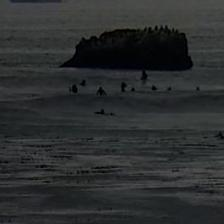surfer: (94, 108, 115, 116), (202, 132, 221, 140), (97, 86, 107, 96), (120, 82, 128, 92), (140, 71, 148, 80), (71, 84, 79, 93), (151, 85, 158, 91), (81, 80, 87, 86), (167, 86, 173, 91), (195, 87, 201, 92), (131, 87, 136, 92), (221, 134, 223, 140)
